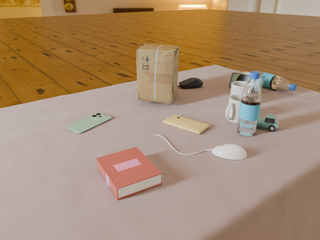book: (97, 147, 162, 200)
bottle: (237, 71, 262, 136), (255, 70, 296, 91)
box: (137, 44, 179, 104)
cup: (226, 94, 242, 123), (230, 81, 247, 95)
mouse: (212, 144, 247, 160), (178, 78, 203, 88)
phone: (66, 113, 111, 134), (163, 115, 209, 134), (229, 73, 265, 90)
toy_car: (257, 114, 279, 131)
